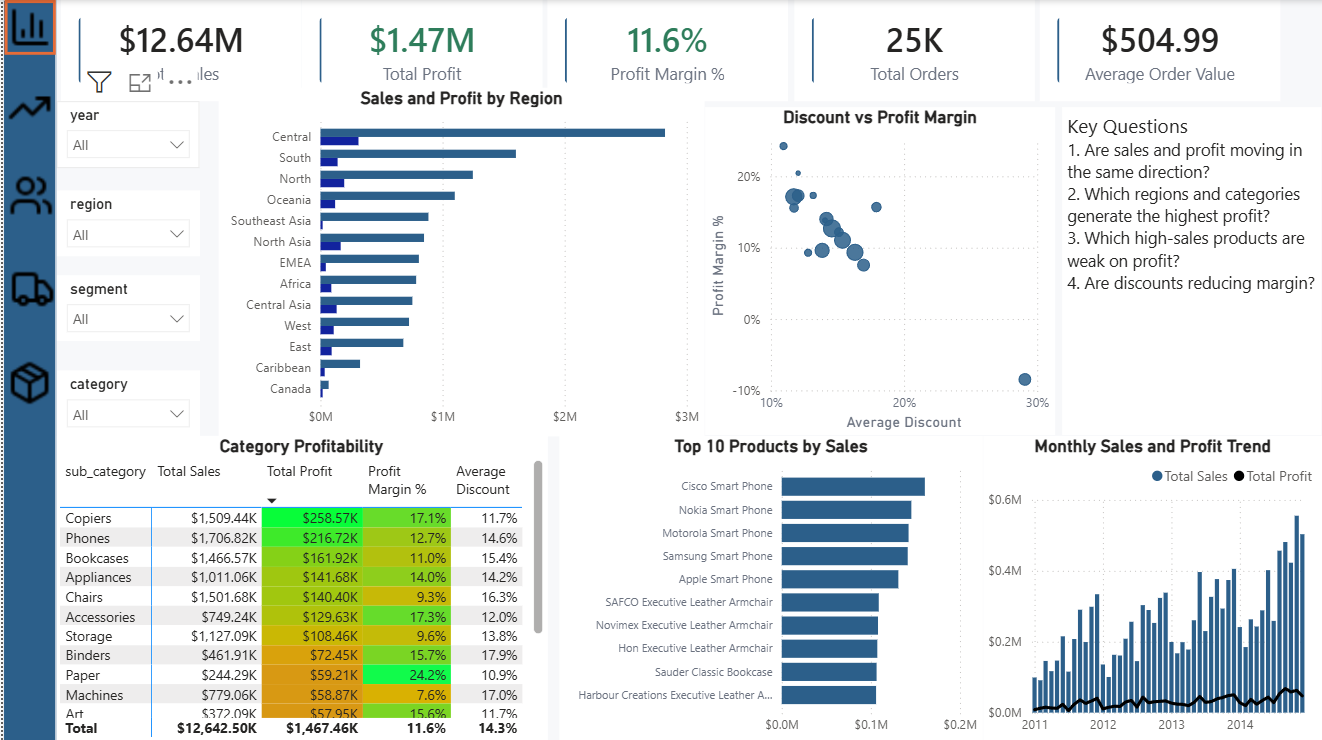

What the dashboard file says about the page in this screenshot:
{"tool":"powerbi","page":{"name":"Executive Overview","canvas":[1280,720],"ordinal":0},"visuals":[{"type":"shape","box":[0,0,51.7,720],"z":0,"group":"g1"},{"type":"cardVisual","fields":{"Data":["_Measures.Total Sales"]},"box":[55.6,0,233.2,98.4],"z":0},{"type":"actionButton","box":[1.7,0,50,53.3],"z":1000,"group":"g1"},{"type":"cardVisual","fields":{"Data":["_Measures.Total Profit"]},"box":[289.8,0,233.2,98.4],"z":1000},{"type":"cardVisual","fields":{"Data":["_Measures.Profit Margin %"]},"box":[528.4,0,233.2,98.4],"z":2000},{"type":"actionButton","box":[0,78.3,51.7,53.3],"z":2000,"group":"g1"},{"type":"cardVisual","fields":{"Data":["_Measures.Total Orders"]},"box":[766.9,0,233.2,98.4],"z":3000},{"type":"actionButton","box":[1.7,163.3,51.7,53.3],"z":3000,"group":"g1"},{"type":"slicer","fields":{"Values":["dim.date.year"]},"box":[51.3,98.4,139,64.2],"z":4000},{"type":"actionButton","box":[3.3,253.3,51.7,53.3],"z":4000,"group":"g1"},{"type":"slicer","fields":{"Values":["dim.geography.region"]},"box":[51.3,184,139,64.2],"z":5000},{"type":"actionButton","box":[0,345,51.7,53.3],"z":5000,"group":"g1"},{"type":"slicer","fields":{"Values":["dim.customer.segment"]},"box":[51.3,267.4,139,64.2],"z":6000},{"type":"slicer","fields":{"Values":["dim.product.category"]},"box":[51.3,359.4,139,64.2],"z":7000},{"type":"cardVisual","fields":{"Data":["_Measures.Average Order Value"]},"box":[1005.4,0,233.2,98.4],"z":8000},{"type":"lineStackedColumnComboChart","title":"Monthly Sales and Profit Trend","fields":{"Y":["_Measures.Total Sales"],"Y2":["_Measures.Total Profit"],"Category":["dim.date.Month Start Date"]},"box":[950,422.7,328.8,298.5],"z":9000},{"type":"clusteredBarChart","title":"Sales and Profit by Region","fields":{"Category":["dim.geography.region"],"Y":["_Measures.Total Profit"]},"box":[209.1,84.8,471.2,337.9],"z":10000},{"type":"pivotTable","title":"Category Profitability","fields":{"Rows":["dim.product.category","dim.product.sub_category"],"Values":["_Measures.Total Sales","_Measures.Total Profit","_Measures.Profit Margin %","_Measures.Average Discount"]},"box":[51.3,423.5,470.6,297.3],"z":11000},{"type":"barChart","title":"Top 10 Products by Sales","fields":{"Category":["dim.product.product_short_name"],"Y":["_Measures.Total Sales"]},"box":[527.3,422.7,422.7,298.5],"z":12000},{"type":"scatterChart","title":"Discount vs Profit Margin","fields":{"X":["_Measures.Average Discount"],"Y":["_Measures.Profit Margin %"],"Size":["_Measures.Total Sales"],"Category":["dim.product.sub_category"]},"box":[680.3,104.5,339.4,318.2],"z":13000},{"type":"textbox","box":[1027.3,104.5,251.5,318.2],"z":14000},{"type":"group","id":"g1","title":"Group 1","box":[0,0,55,720],"z":14001}]}

Visuals, with their boxes on the page's 1280x720 design canvas (x1, y1, x2, y2). These are canvas units, not pixel positions in the 1322x740 screenshot, which may show the page scaled, cropped or inside an application window:
shape: left=0, top=0, right=52, bottom=720
cardVisual - _Measures.Total Sales: left=56, top=0, right=289, bottom=98
actionButton: left=2, top=0, right=52, bottom=53
cardVisual - _Measures.Total Profit: left=290, top=0, right=523, bottom=98
cardVisual - _Measures.Profit Margin %: left=528, top=0, right=762, bottom=98
actionButton: left=0, top=78, right=52, bottom=132
cardVisual - _Measures.Total Orders: left=767, top=0, right=1000, bottom=98
actionButton: left=2, top=163, right=53, bottom=217
slicer - dim.date.year: left=51, top=98, right=190, bottom=163
actionButton: left=3, top=253, right=55, bottom=307
slicer - dim.geography.region: left=51, top=184, right=190, bottom=248
actionButton: left=0, top=345, right=52, bottom=398
slicer - dim.customer.segment: left=51, top=267, right=190, bottom=332
slicer - dim.product.category: left=51, top=359, right=190, bottom=424
cardVisual - _Measures.Average Order Value: left=1005, top=0, right=1239, bottom=98
"Monthly Sales and Profit Trend" lineStackedColumnComboChart: left=950, top=423, right=1279, bottom=721
"Sales and Profit by Region" clusteredBarChart: left=209, top=85, right=680, bottom=423
"Category Profitability" pivotTable: left=51, top=424, right=522, bottom=721
"Top 10 Products by Sales" barChart: left=527, top=423, right=950, bottom=721
"Discount vs Profit Margin" scatterChart: left=680, top=104, right=1020, bottom=423
textbox: left=1027, top=104, right=1279, bottom=423
"Group 1" group: left=0, top=0, right=55, bottom=720
